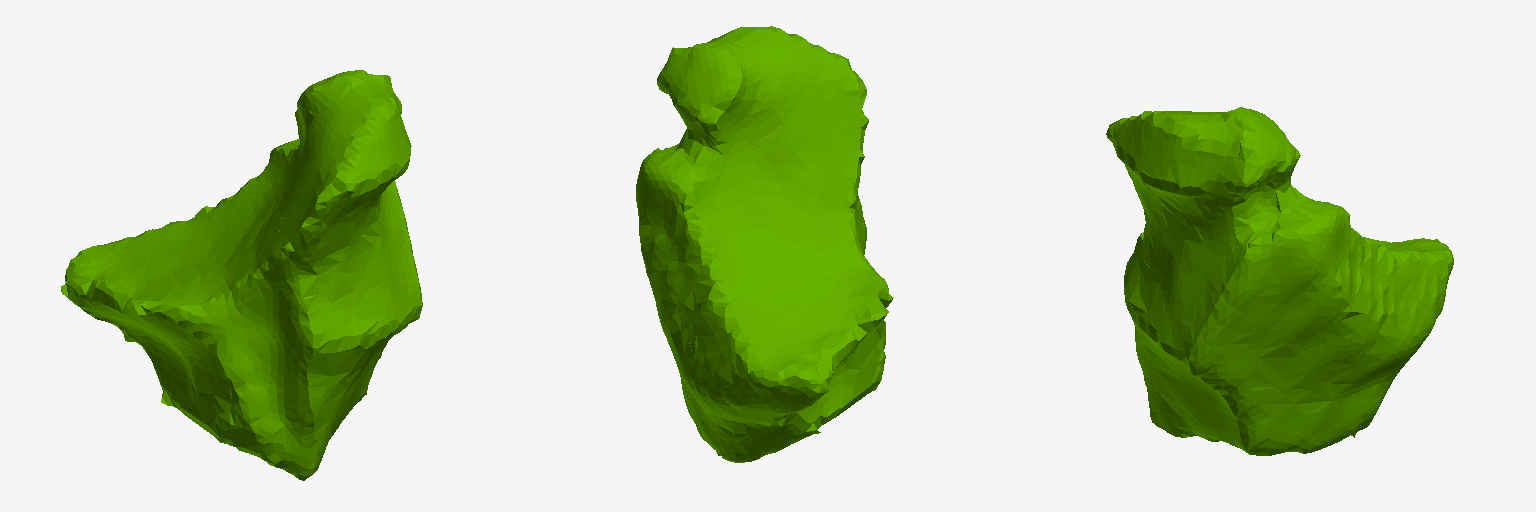
Rendered from Model_10056_LH__Area_23_of_cortex__ventral_part_(A23V).obj.
3 views of the same model, side by side, from view 1: azimuth 30°, elevation 25°; view 2: azimuth 150°, elevation 25°; view 3: azimuth 270°, elevation 25° (orthographic).
Bounding box in the file's own units: 2.74 × 3.68 × 3.24.